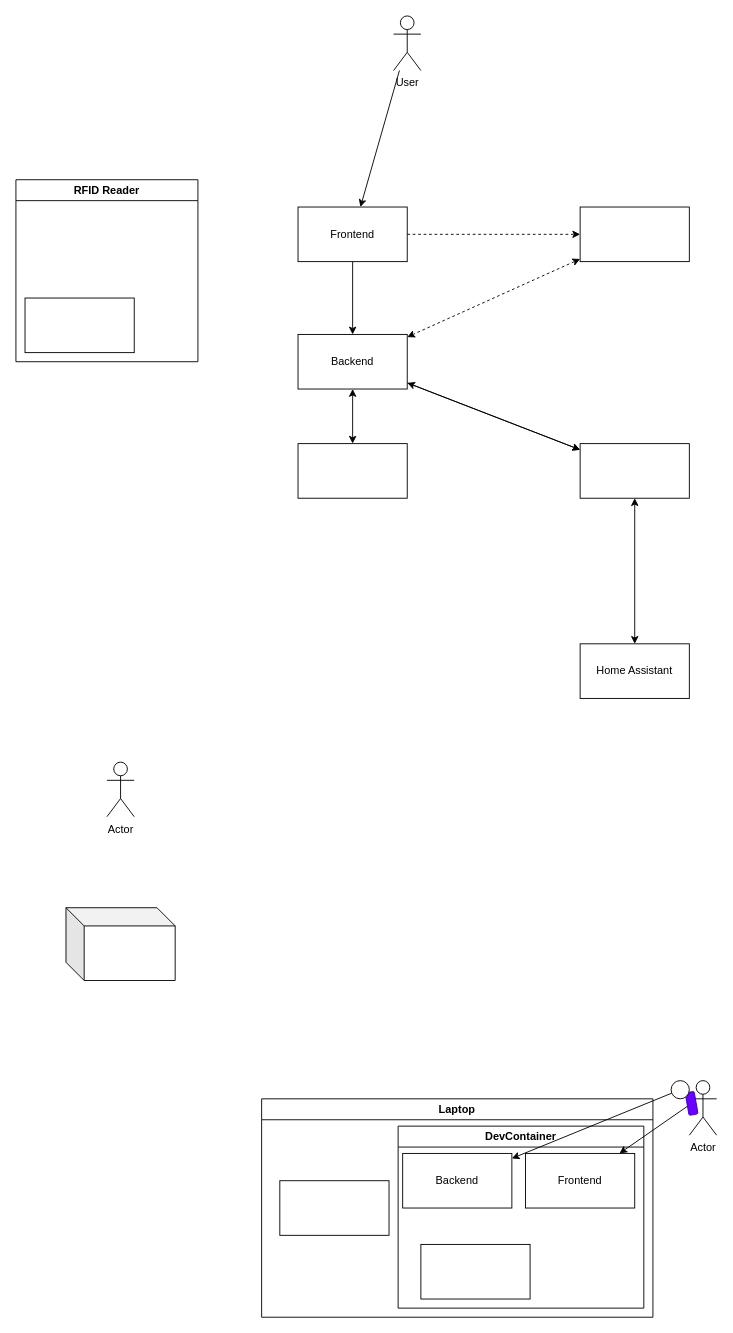
Some shapes in this 733 by 1333 pixel diagram are drawn without their labels. Here are the shapes that lost their labels. From the top down, the centre of each, then its label:
At point (634, 234): "ChatGPT".
At point (79, 325): "ESP Home".
At point (352, 470): "Datenbank".
At point (634, 470): "MQTT Broker".
At point (334, 1207): "Vivaldi".
At point (475, 1271): "Simple Browser".
